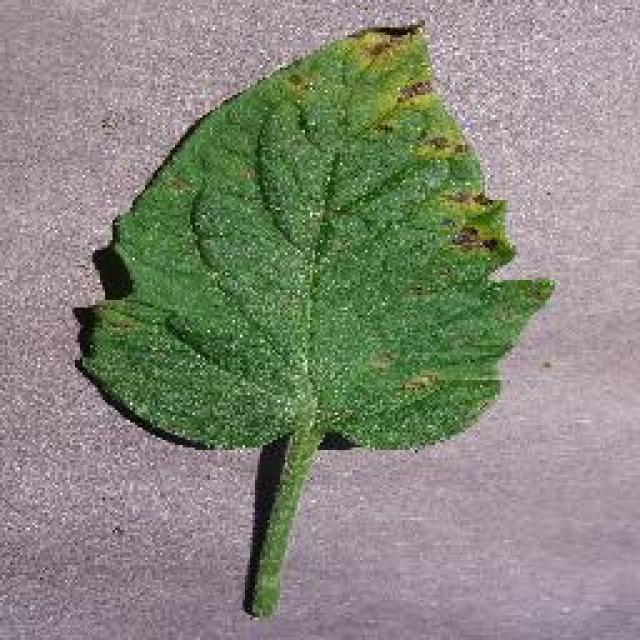Tomato___Septoria_leaf_spot: (80, 22, 552, 612)
